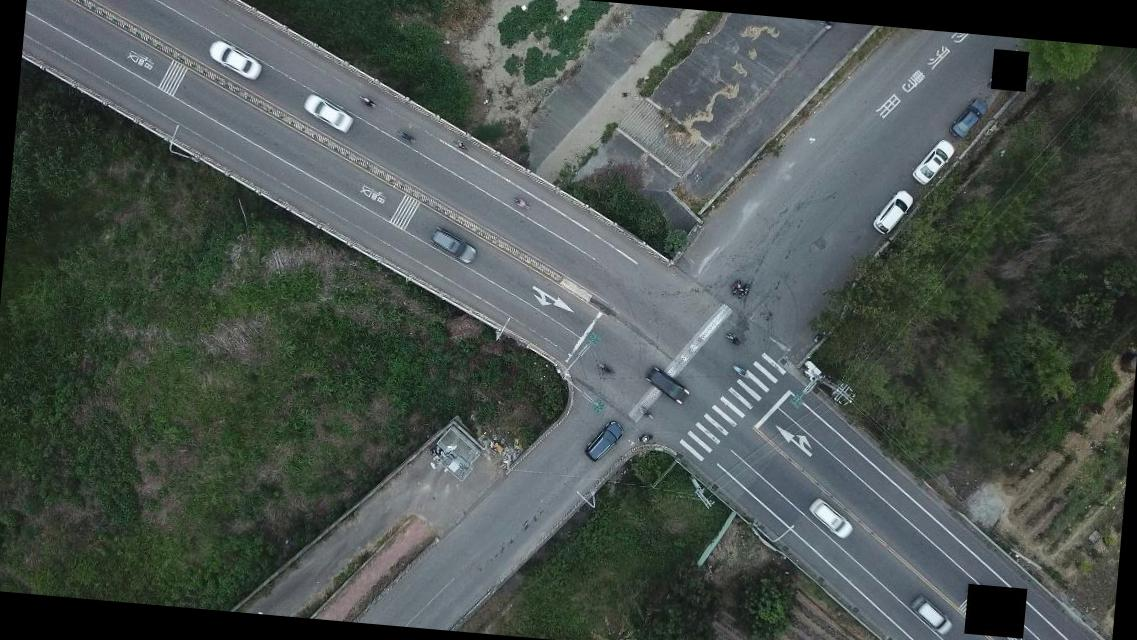vehicle: (203, 38, 263, 82), (906, 591, 956, 639), (804, 494, 854, 542), (909, 136, 953, 188), (870, 190, 916, 238), (300, 95, 356, 134), (426, 226, 478, 266), (947, 94, 991, 140), (582, 418, 624, 465), (641, 367, 691, 406)
